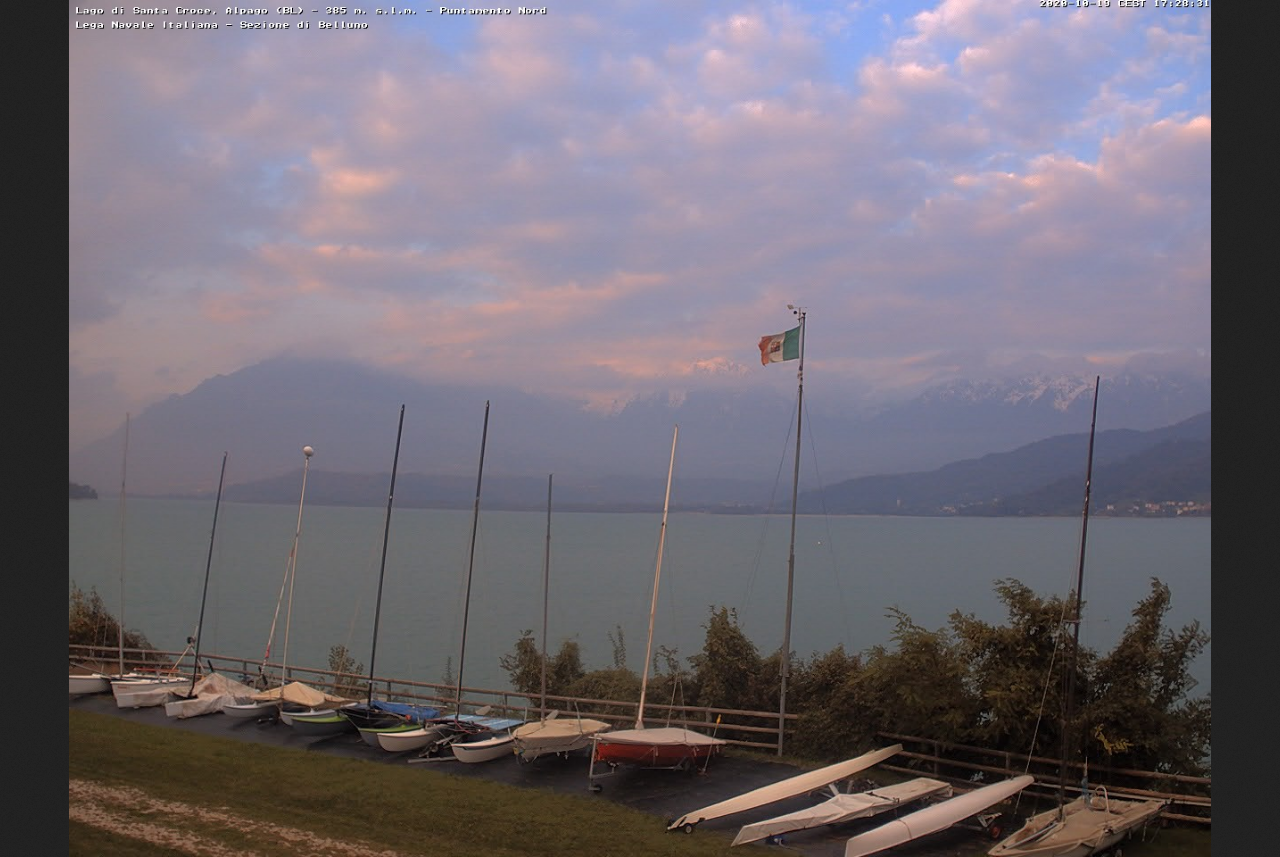yes: (757, 328, 803, 366)
